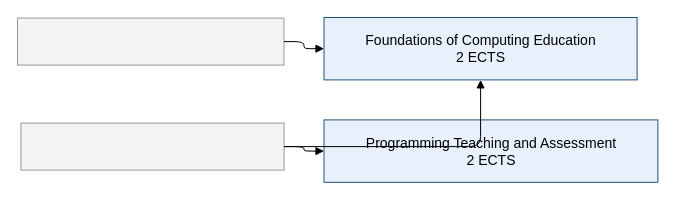
Image size: 676x200. Some labels were removed from this diagram. The centre of each missing label's shape, as x and y in pixels:
Computing Education (90749): the point at 152,146
Laboratory of Making (81678): the point at 150,41
